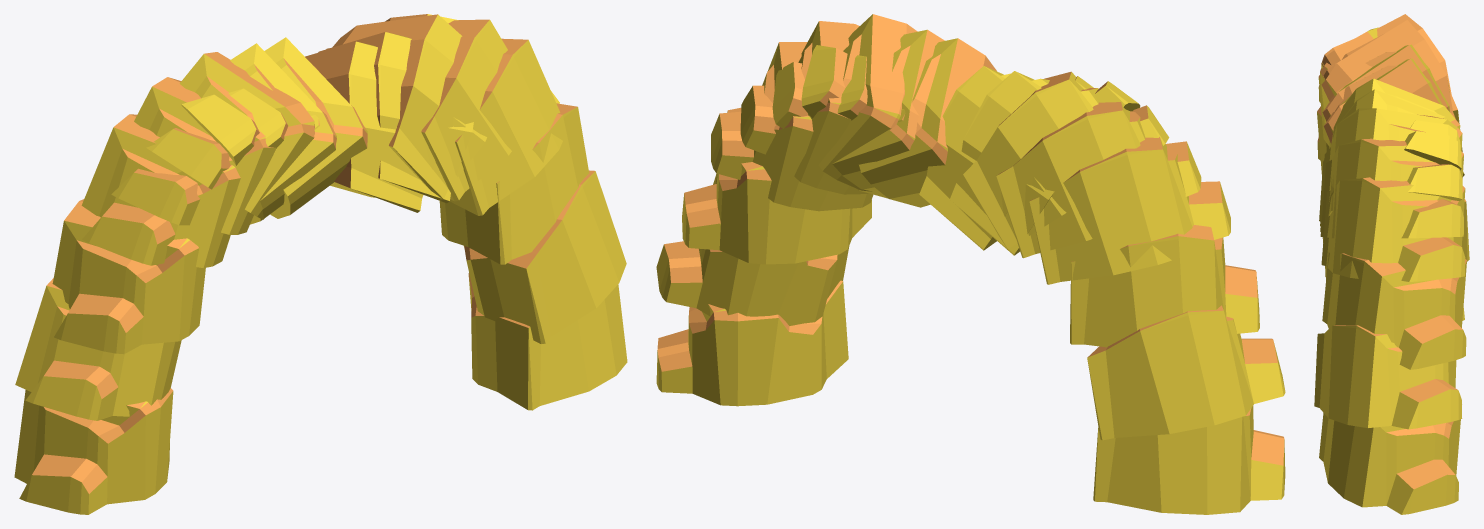
File: Work_Shop_Portal_Vanilla Ice Cream 1.fbx
The picture shows the model from 3 angles, left to right: view 1: azimuth 30°, elevation 25°; view 2: azimuth 150°, elevation 25°; view 3: azimuth 270°, elevation 25°; orthographic projection. The views are drawn at different scales.
Parts seen in each view (by area): view 1: Rock_Moss_6.001; view 2: Rock_Moss_6.001; view 3: Rock_Moss_6.001.
Boxes of the visible parts, box(x1,y1,x2,y2) form: Rock_Moss_6.001: box(14, 14, 627, 514); Rock_Moss_6.001: box(656, 14, 1285, 514); Rock_Moss_6.001: box(1314, 14, 1469, 514).
Size of the model in its own units: 6.15 by 3.69 by 1.6.
